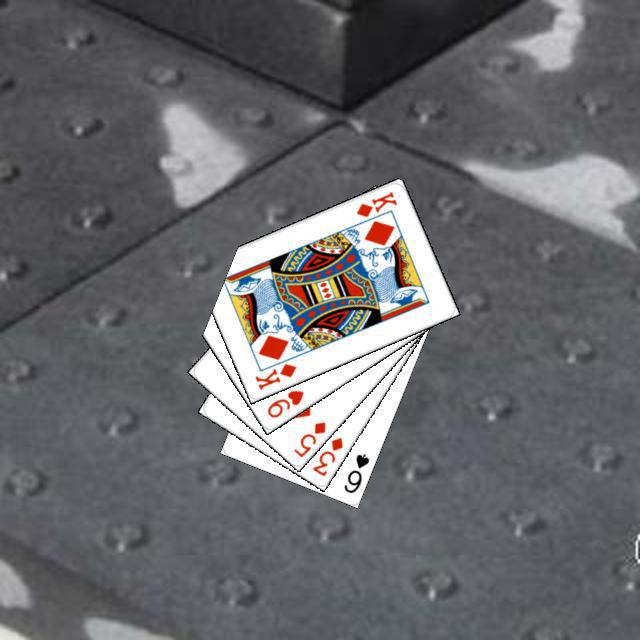3d: (307, 432, 345, 478)
5d: (289, 417, 327, 459)
6s: (339, 449, 371, 495)
9h: (262, 385, 306, 420)
Kd: (250, 358, 298, 391), (351, 186, 398, 219)
